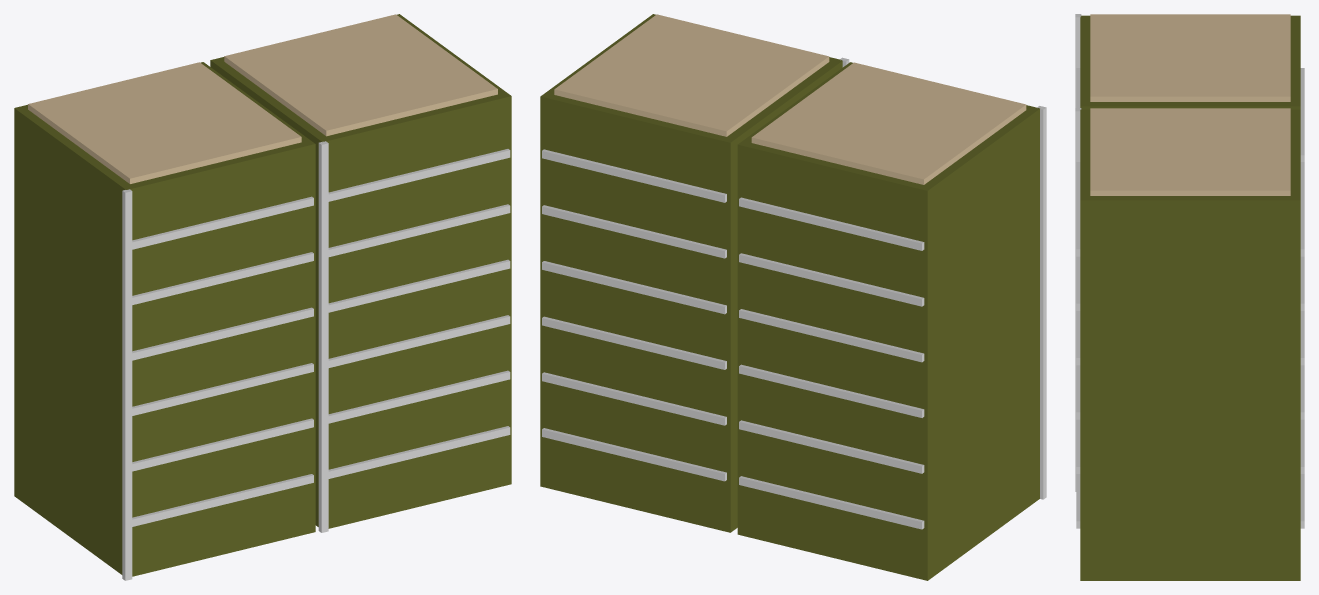
File: SM_HescoCorto2_v1_Geotextil_e0_Sano_LOD0.fbx
3 views of the same model, side by side, from view 1: azimuth 30°, elevation 25°; view 2: azimuth 150°, elevation 25°; view 3: azimuth 270°, elevation 25° (orthographic). The views are drawn at different scales.
Parts seen in each view (by area): view 1: SM_hesco_piezas_v64_LOD0; view 2: SM_hesco_piezas_v64_LOD0; view 3: SM_hesco_piezas_v64_LOD0.
Boxes of the visible parts, <box> form: SM_hesco_piezas_v64_LOD0: <box>14,14,511,580</box>; SM_hesco_piezas_v64_LOD0: <box>540,14,1046,580</box>; SM_hesco_piezas_v64_LOD0: <box>1075,14,1304,580</box>.
Bounding box in the file's own units: 2.2 × 2.13 × 1.14.
